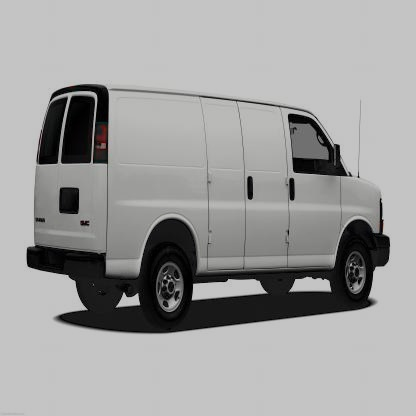Vehicle: (26, 80, 392, 335)
